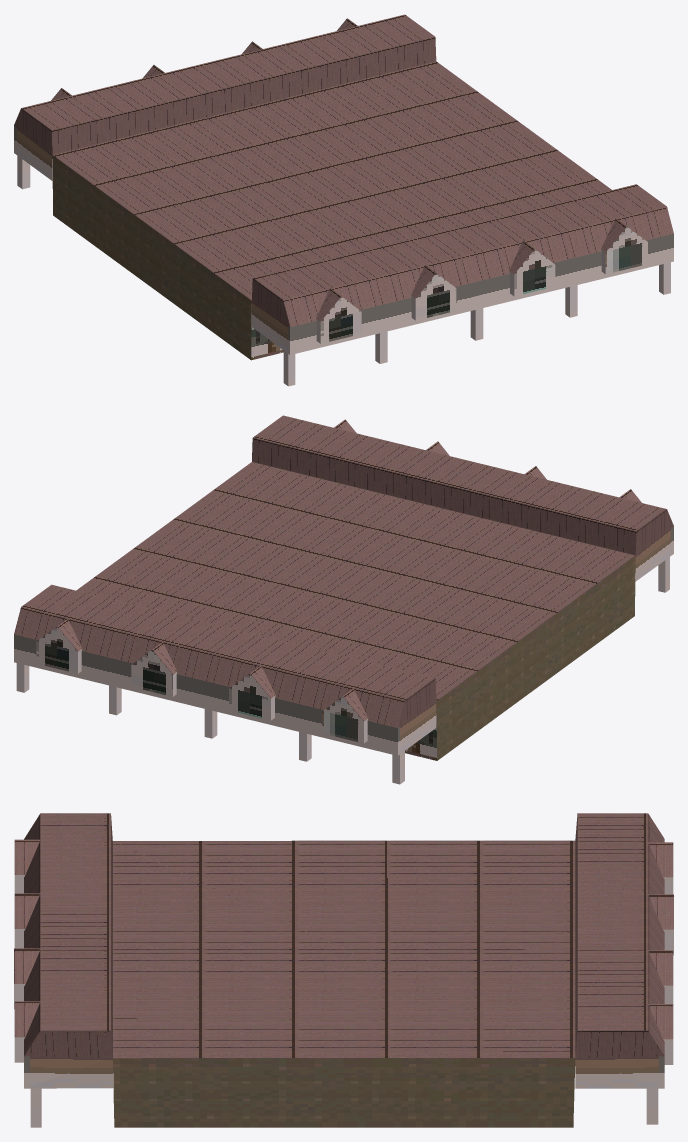
The model's file is lodp05_lvs.obj.
3 renders of one model, top to bottom at view 1: azimuth 30°, elevation 25°; view 2: azimuth 150°, elevation 25°; view 3: azimuth 270°, elevation 25°, orthographic. The views are drawn at different scales.
Visible parts, largest first — view 1: lodp05_lvs; view 2: lodp05_lvs; view 3: lodp05_lvs.
Boxes of the visible parts, bbox=[...] form: lodp05_lvs: bbox=[14, 14, 673, 386]; lodp05_lvs: bbox=[14, 415, 673, 784]; lodp05_lvs: bbox=[14, 813, 673, 1127].
Size of the model in its own units: 39.85 by 8.39 by 51.11.
2 materials, 2 textured.
